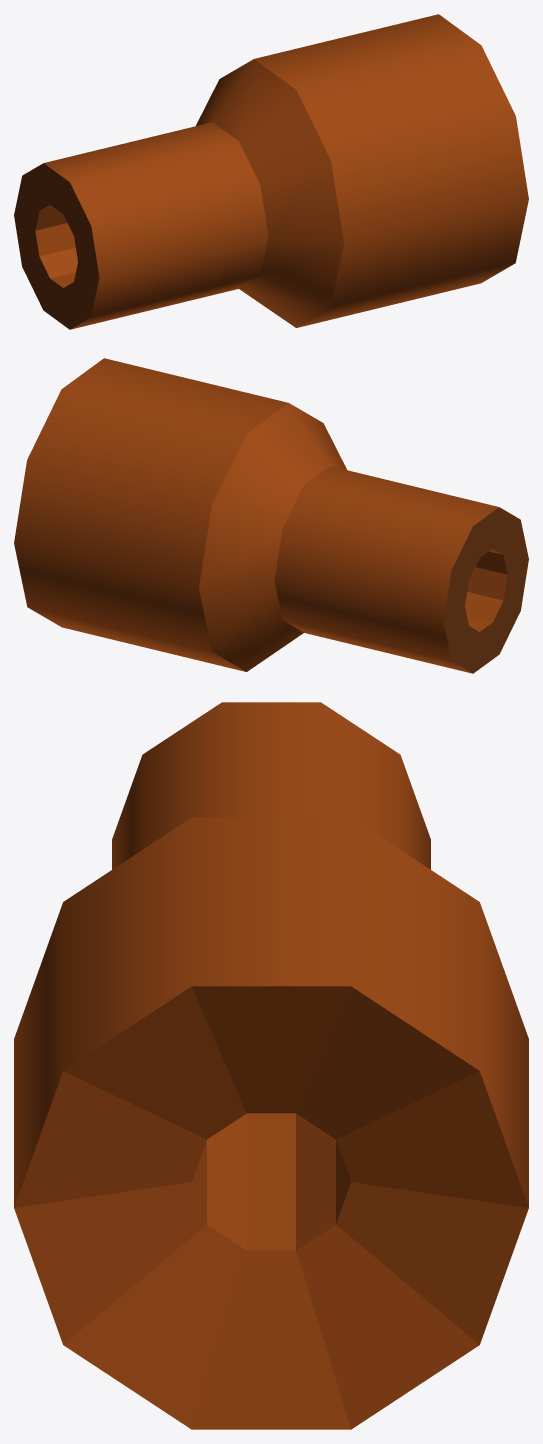
The model's file is GoldTurret.obj.
3 views of the same model, one above another, from view 1: azimuth 30°, elevation 25°; view 2: azimuth 150°, elevation 25°; view 3: azimuth 270°, elevation 25° (orthographic). The views are drawn at different scales.
Parts seen in each view (by area): view 1: polySurface4; view 2: polySurface4; view 3: polySurface4.
Boxes of the visible parts, x1,y1,x2,y2 form: polySurface4: (14,14,528,329); polySurface4: (14,358,528,673); polySurface4: (14,702,528,1429).
Size of the model in its own units: 0.9476 by 0.5345 by 0.5613.
Materials: 1 (1 with a texture image).
